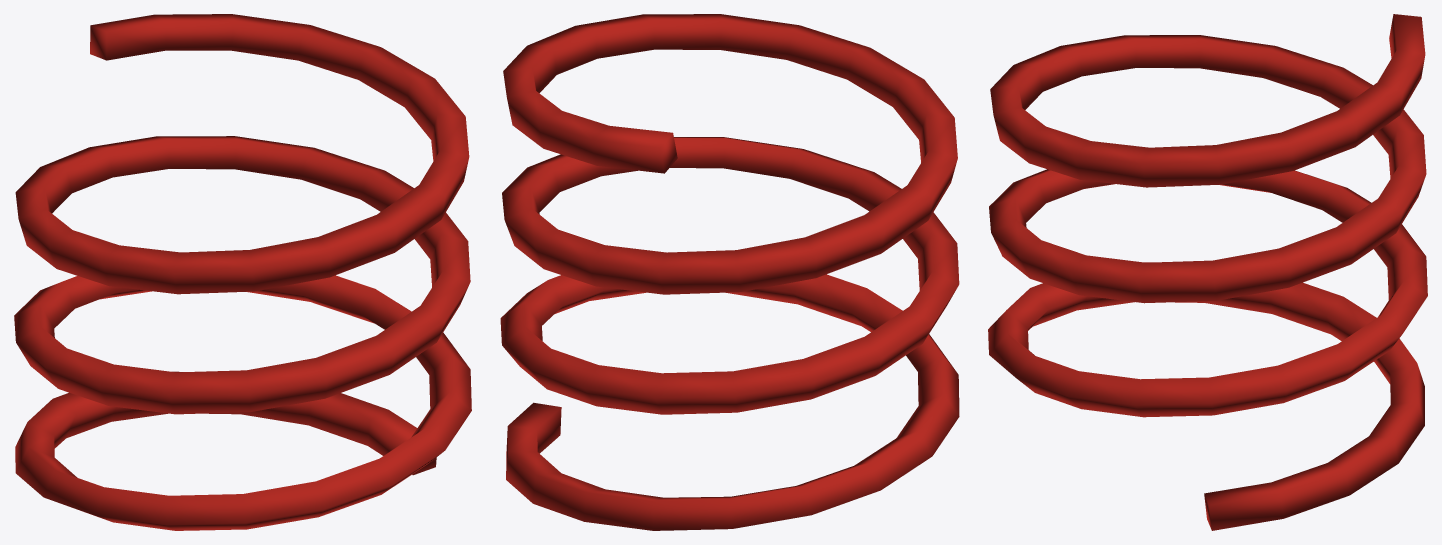
Rendered from wire.glb.
The picture shows the model from 3 angles, left to right: view 1: azimuth 30°, elevation 25°; view 2: azimuth 150°, elevation 25°; view 3: azimuth 270°, elevation 25°; orthographic projection. The views are drawn at different scales.
Parts seen in each view (by area): view 1: wire_v0; view 2: wire_v0; view 3: wire_v0.
Boxes of the visible parts, box(x1,y1,x2,y2) form: wire_v0: box(14, 14, 471, 530); wire_v0: box(500, 14, 959, 530); wire_v0: box(988, 14, 1427, 530).
Size of the model in its own units: 0.2635 by 0.2659 by 0.2604.
